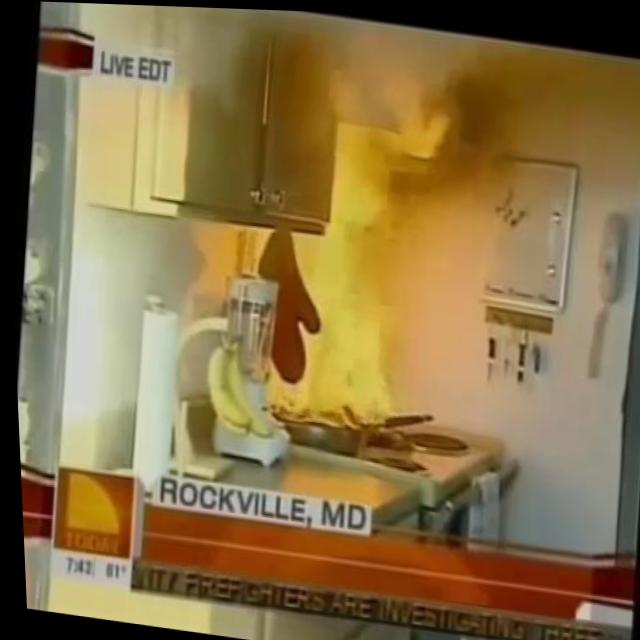fire: (258, 118, 436, 438)
